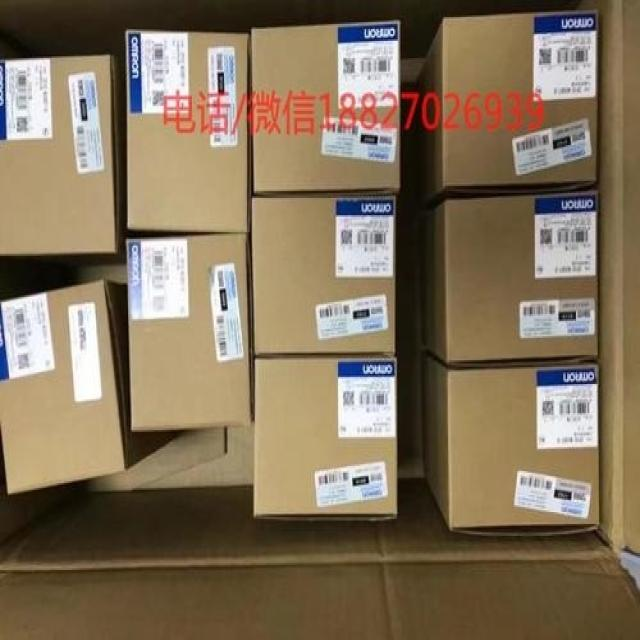box: (0, 280, 184, 495), (415, 9, 599, 210), (421, 355, 599, 536), (421, 191, 599, 365), (251, 20, 402, 196), (0, 55, 127, 261), (124, 232, 253, 432), (125, 29, 251, 232), (251, 195, 396, 360), (253, 357, 397, 521)
